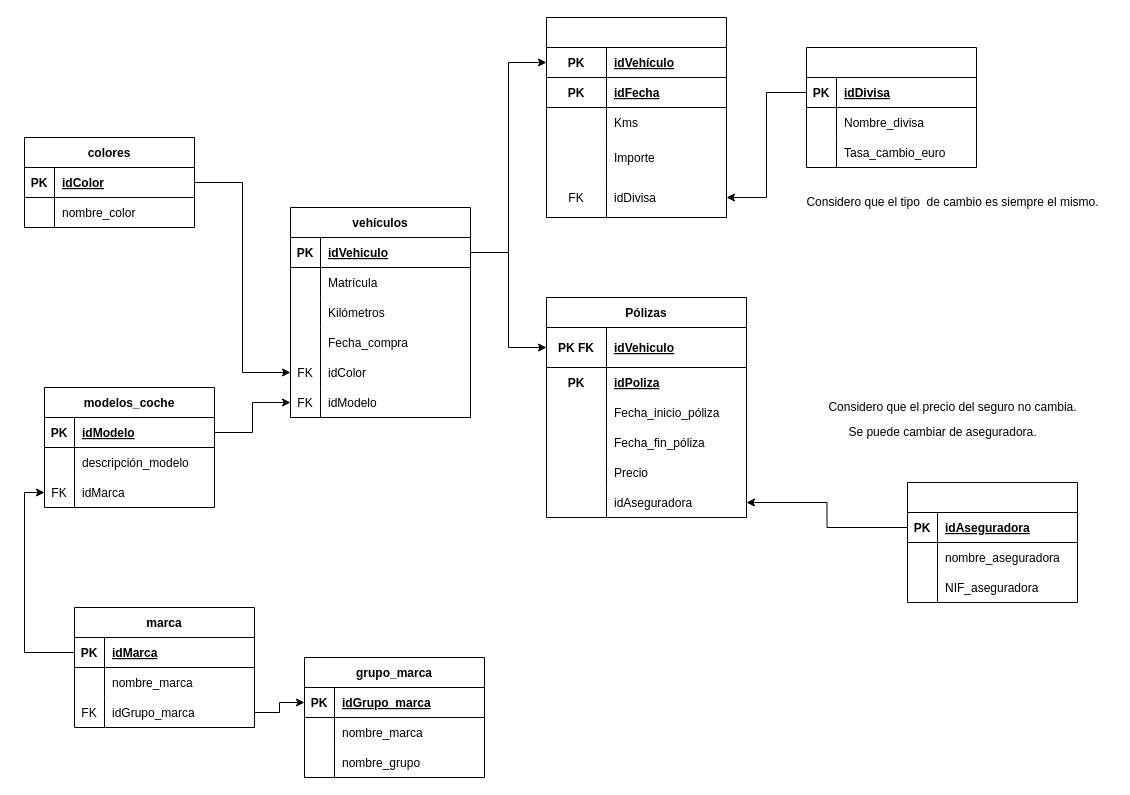
Some shapes in this 1130 by 795 pixel diagram are drawn without their labels. Each missing label, with the box of its shape:
Companñías_aseguradoras: (906, 482, 1078, 602)
Divisas: (806, 46, 976, 168)
Revisiones: (546, 16, 726, 218)
